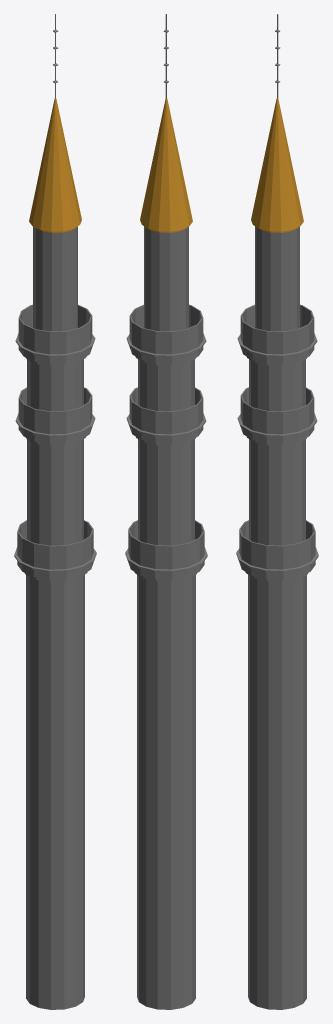
File: SM_minaret_01.fbx
3 views of the same model, side by side, from view 1: azimuth 30°, elevation 25°; view 2: azimuth 150°, elevation 25°; view 3: azimuth 330°, elevation 25° (orthographic).
Parts seen in each view (by area): view 1: Cylinder048; view 2: Cylinder048; view 3: Cylinder048.
Part boxes in pixels (box(x1,y1,x2,y2)): Cylinder048: box(14, 14, 96, 1009); Cylinder048: box(125, 14, 207, 1009); Cylinder048: box(236, 14, 318, 1009).
Bounding box in the file's own units: 50.16 × 48.9 × 658.
